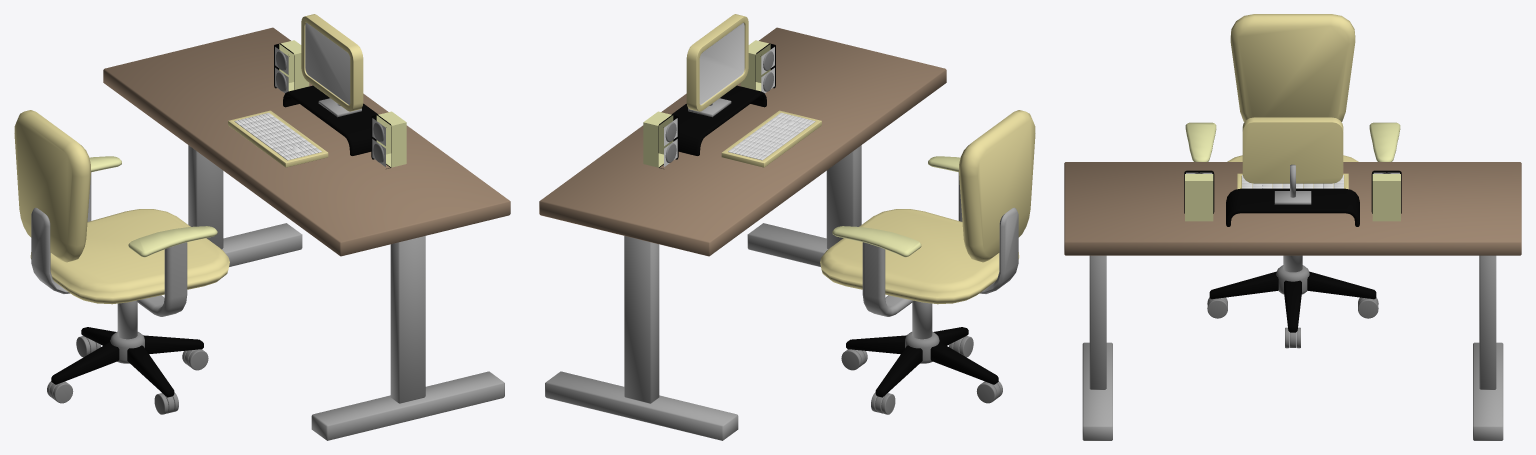
Rendered from Desk.glb.
3 views of the same model, side by side, from view 1: azimuth 30°, elevation 25°; view 2: azimuth 150°, elevation 25°; view 3: azimuth 270°, elevation 25° (orthographic). The views are drawn at different scales.
Parts seen in each view (by area): view 1: Plane, Plane.001, Cube.001, Plane.005, Cube, Plane.008, Cube.002, Plane.011, Plane.006, Plane.002, Plane.010, Plane.003 (+5 smaller); view 2: Plane, Plane.001, Cube.001, Plane.005, Cube, Plane.008, Cube.002, Plane.011, Plane.006, Plane.002, Plane.010, Plane.003 (+5 smaller); view 3: Plane, Plane.005, Plane.008, Cube.001, Cube, Plane.011, Plane.006, Cube.002, Plane.003, Cylinder.001, Plane.010, Cylinder (+1 smaller).
Boxes of the visible parts, x1,y1,x2,y2 form: Plane: (103, 27, 510, 256); Plane.001: (30, 209, 229, 304); Cube.001: (188, 145, 425, 403); Plane.005: (14, 110, 90, 262); Cube: (222, 223, 504, 440); Plane.008: (301, 14, 363, 111); Cube.002: (51, 327, 203, 397); Plane.011: (274, 40, 406, 168); Plane.006: (283, 85, 378, 155); Plane.002: (87, 172, 187, 316); Plane.010: (234, 112, 321, 160); Plane.003: (89, 156, 217, 257); Plane: (539, 27, 946, 256); Plane.001: (820, 209, 1019, 304); Cube.001: (624, 145, 861, 403); Plane.005: (959, 110, 1035, 262); Cube: (545, 223, 827, 440); Plane.008: (686, 14, 748, 111); Cube.002: (846, 327, 998, 397); Plane.011: (643, 40, 775, 168); Plane.006: (671, 85, 766, 155); Plane.002: (862, 172, 962, 316); Plane.010: (728, 112, 815, 160); Plane.003: (832, 156, 960, 257); Plane: (1064, 162, 1521, 255); Plane.005: (1230, 14, 1355, 121); Plane.008: (1242, 117, 1343, 183); Cube.001: (1089, 255, 1496, 389); Cube: (1082, 342, 1503, 440); Plane.011: (1184, 170, 1401, 221); Plane.006: (1226, 188, 1359, 226); Cube.002: (1209, 271, 1376, 332); Plane.003: (1185, 122, 1400, 161); Cylinder.001: (1207, 297, 1378, 348); Plane.010: (1242, 175, 1343, 188); Cylinder: (1276, 265, 1309, 294).
Size of the model in its own units: 2.86 by 2.31 by 3.28.
